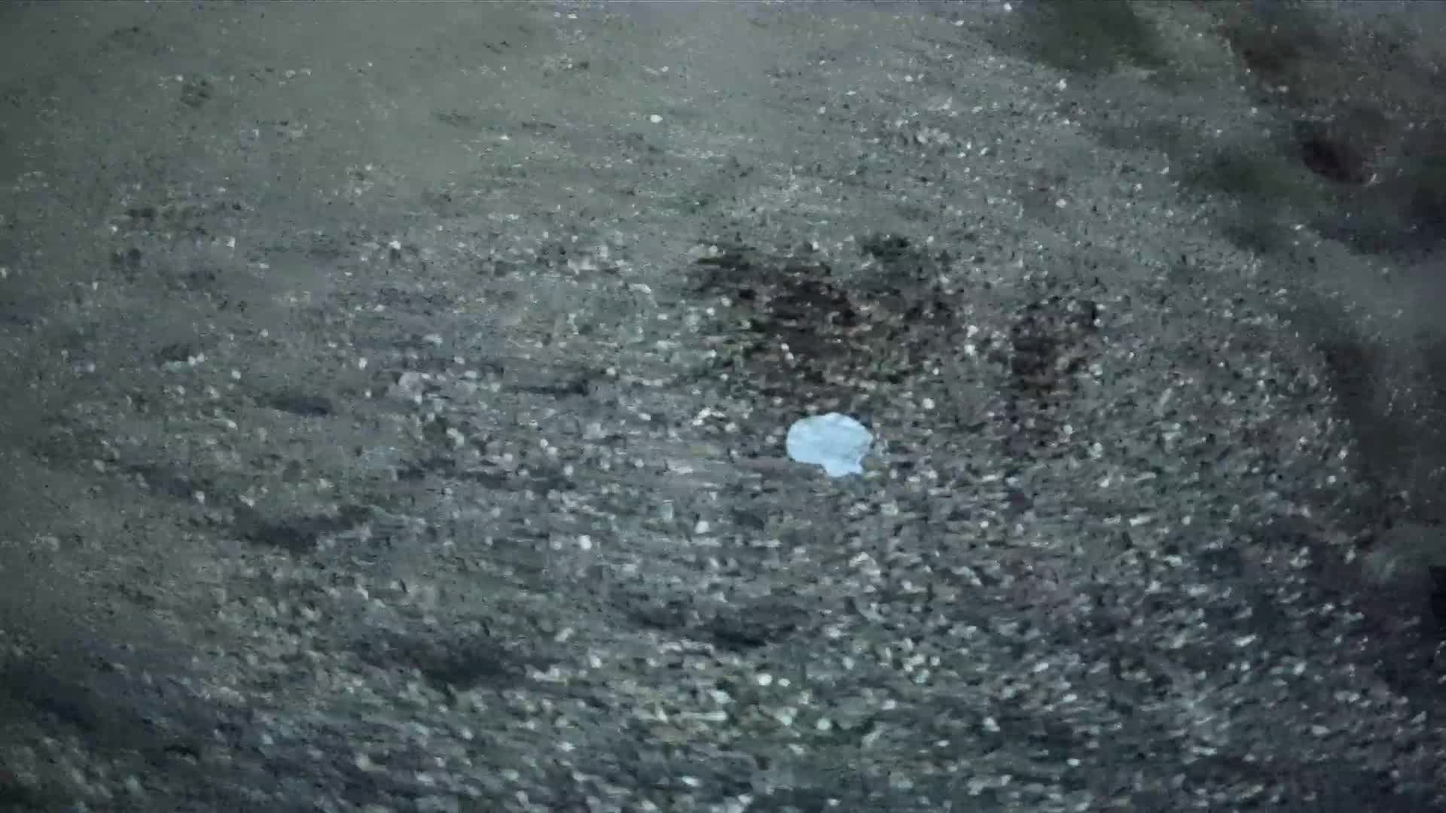Target: (784, 406, 877, 478)
